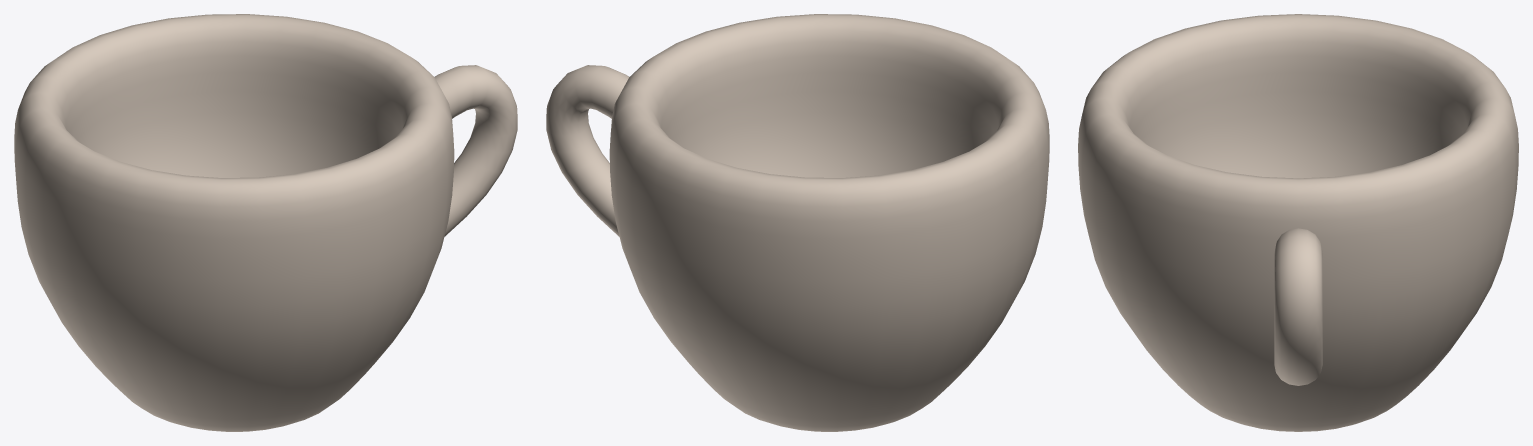
File: SM_coffee_cup.fbx
The picture shows the model from 3 angles, left to right: view 1: azimuth 30°, elevation 25°; view 2: azimuth 150°, elevation 25°; view 3: azimuth 270°, elevation 25°; orthographic projection.
Visible parts, largest first — view 1: SM_coffee_cup; view 2: SM_coffee_cup; view 3: SM_coffee_cup.
Boxes of the visible parts, bbox=[...] form: SM_coffee_cup: bbox=[14, 14, 517, 431]; SM_coffee_cup: bbox=[546, 14, 1049, 431]; SM_coffee_cup: bbox=[1078, 14, 1518, 431].
Bounding box in the file's own units: 16.83 × 10.2 × 13.65.
Materials: 1 (1 with a texture image).
